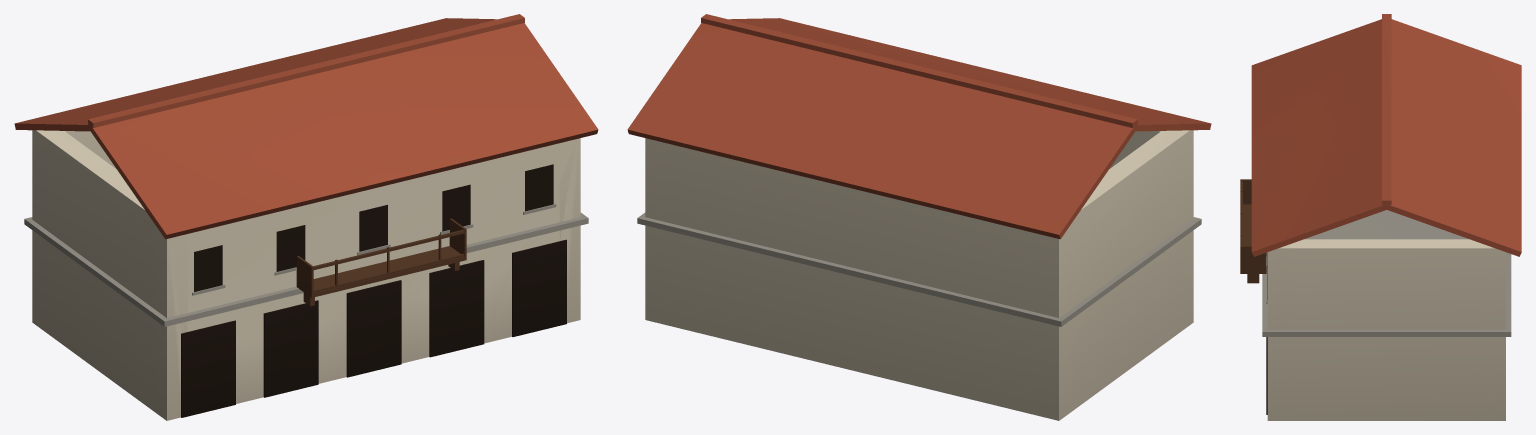
File: colonial_cabildo_lod1.glb
3 views of the same model, side by side, from view 1: azimuth 30°, elevation 25°; view 2: azimuth 150°, elevation 25°; view 3: azimuth 270°, elevation 25° (orthographic). The views are drawn at different scales.
Parts seen in each view (by area): view 1: GEO-Arch_colonial_cabildo_LOD1; view 2: GEO-Arch_colonial_cabildo_LOD1; view 3: GEO-Arch_colonial_cabildo_LOD1.
Part boxes in pixels (bbox=[...]): GEO-Arch_colonial_cabildo_LOD1: bbox=[14, 14, 598, 420]; GEO-Arch_colonial_cabildo_LOD1: bbox=[627, 14, 1211, 420]; GEO-Arch_colonial_cabildo_LOD1: bbox=[1240, 14, 1521, 420].
Bounding box in the file's own units: 16.7 × 9.34 × 10.64.
